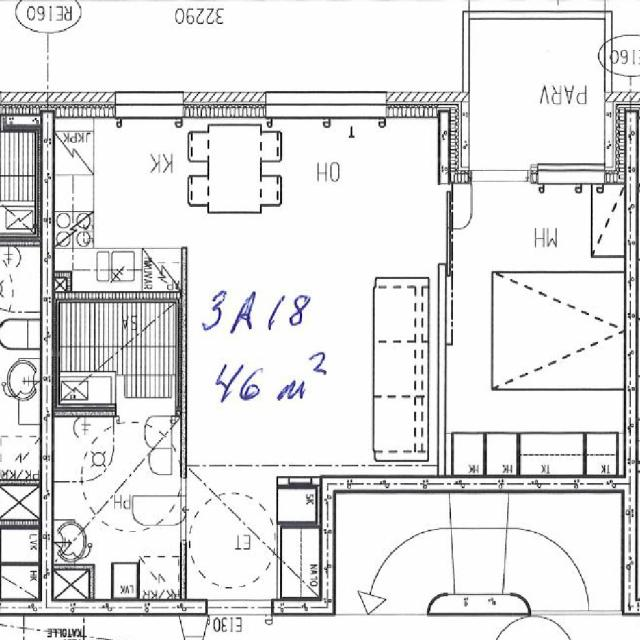door: (472, 109, 528, 183), (120, 403, 172, 474), (180, 480, 239, 538)
